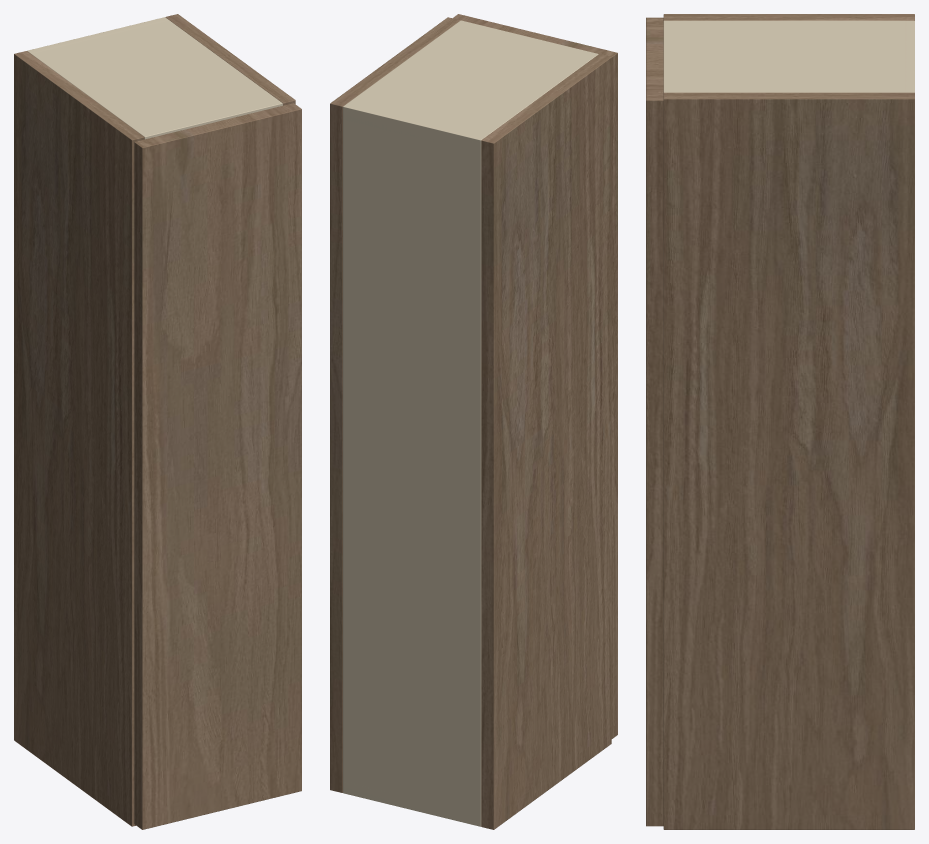
The model's file is oppein-ply-mnw-w0936.glb.
3 views of the same model, side by side, from view 1: azimuth 30°, elevation 25°; view 2: azimuth 150°, elevation 25°; view 3: azimuth 270°, elevation 25° (orthographic). The views are drawn at different scales.
Visible parts, largest first — view 1: Door, Cabinet side, Cabinet top, Cabinet side.001, Cabinet back; view 2: Cabinet back, Cabinet side, Cabinet top, Cabinet side.001, Door; view 3: Cabinet side.001, Cabinet top, Door, Cabinet side, Cabinet back.
Boxes of the visible parts, box(x1,y1,x2,y2) form: Door: box(134, 103, 301, 829); Cabinet side: box(14, 51, 144, 826); Cabinet top: box(28, 20, 282, 139); Cabinet side.001: box(165, 14, 295, 105); Cabinet back: box(27, 17, 168, 53); Cabinet back: box(343, 103, 485, 826); Cabinet side: box(481, 54, 611, 829); Cabinet top: box(343, 20, 598, 151); Cabinet side.001: box(330, 17, 460, 792); Door: box(453, 14, 617, 738); Cabinet side.001: box(663, 92, 914, 829); Cabinet top: box(663, 20, 914, 92); Door: box(646, 17, 663, 826); Cabinet side: box(663, 14, 914, 20); Cabinet back: box(905, 20, 914, 92).
Bounding box in the file's own units: 0.2286 × 0.9144 × 0.3048.
Materials: 2 (1 with a texture image).
